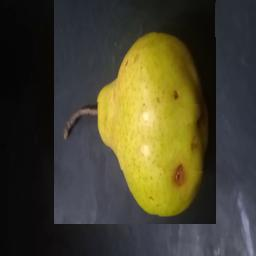Pear Semifresh: (55, 0, 217, 224)
